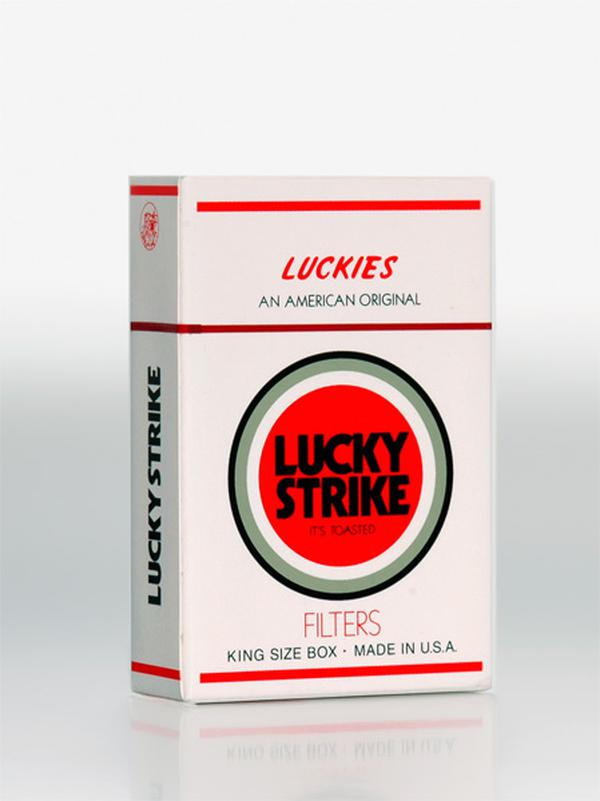lucky_strike_red: (177, 177, 492, 695)
